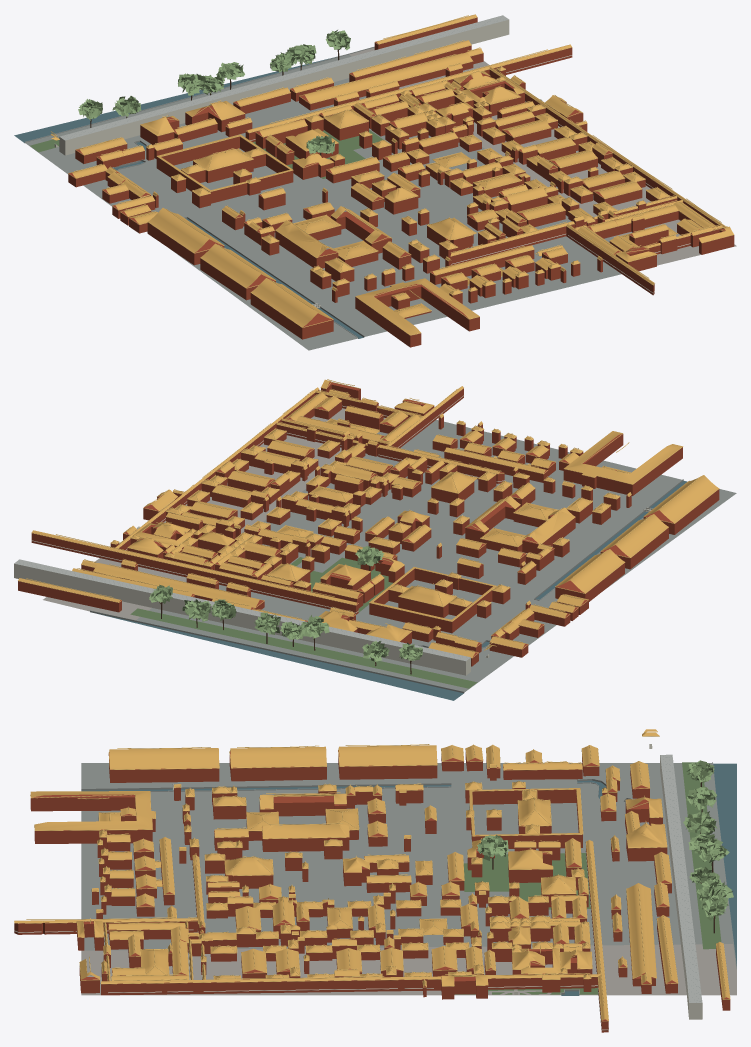
The model's file is north-west-medium.glb.
The picture shows the model from 3 angles, top to bottom: view 1: azimuth 30°, elevation 25°; view 2: azimuth 150°, elevation 25°; view 3: azimuth 270°, elevation 25°; orthographic projection. The views are drawn at different scales.
Visible parts, largest first — view 1: north-west_medium_Vermilion, north-west_medium_Roof_Glazed_Ochre, north-west_medium_Courtyard_Stone, north-west_medium_Roof_Ridge_Highlight, north-west_medium_Limestone, north-west_medium_Foliage_Leaves, north-west_medium_Terrace_Paving, north-west_medium_Courtyard_Warm, north-west_medium_Water_Jade, north-west_medium_Garden_Green; view 2: north-west_medium_Vermilion, north-west_medium_Roof_Glazed_Ochre, north-west_medium_Courtyard_Stone, north-west_medium_Roof_Ridge_Highlight, north-west_medium_Limestone, north-west_medium_Foliage_Leaves, north-west_medium_Garden_Green, north-west_medium_Water_Jade, north-west_medium_Courtyard_Warm, north-west_medium_Terrace_Paving; view 3: north-west_medium_Roof_Glazed_Ochre, north-west_medium_Vermilion, north-west_medium_Courtyard_Stone, north-west_medium_Roof_Ridge_Highlight, north-west_medium_Courtyard_Warm, north-west_medium_Foliage_Leaves, north-west_medium_Garden_Green, north-west_medium_Terrace_Paving, north-west_medium_Water_Jade, north-west_medium_Limestone.
Boxes of the visible parts, x1,y1,x2,y2 form: north-west_medium_Vermilion: (68, 17, 734, 347); north-west_medium_Roof_Glazed_Ochre: (51, 14, 733, 334); north-west_medium_Courtyard_Stone: (24, 18, 621, 350); north-west_medium_Roof_Ridge_Highlight: (50, 15, 734, 335); north-west_medium_Limestone: (54, 19, 690, 307); north-west_medium_Foliage_Leaves: (78, 30, 350, 154); north-west_medium_Terrace_Paving: (60, 15, 508, 140); north-west_medium_Courtyard_Warm: (349, 47, 736, 265); north-west_medium_Water_Jade: (14, 56, 363, 338); north-west_medium_Garden_Green: (30, 130, 383, 178); north-west_medium_Vermilion: (18, 381, 719, 666); north-west_medium_Roof_Glazed_Ochre: (18, 379, 718, 657); north-west_medium_Courtyard_Stone: (19, 419, 736, 693); north-west_medium_Roof_Ridge_Highlight: (18, 379, 719, 658); north-west_medium_Limestone: (14, 395, 652, 675); north-west_medium_Foliage_Leaves: (149, 545, 422, 661); north-west_medium_Garden_Green: (120, 541, 477, 688); north-west_medium_Water_Jade: (97, 481, 687, 700); north-west_medium_Courtyard_Warm: (43, 406, 385, 620); north-west_medium_Terrace_Paving: (14, 559, 470, 661); north-west_medium_Roof_Glazed_Ochre: (14, 729, 729, 1020); north-west_medium_Vermilion: (14, 750, 730, 1032); north-west_medium_Courtyard_Stone: (81, 755, 736, 1002); north-west_medium_Roof_Ridge_Highlight: (18, 730, 730, 1021); north-west_medium_Courtyard_Warm: (81, 944, 736, 995); north-west_medium_Foliage_Leaves: (477, 760, 733, 920); north-west_medium_Garden_Green: (455, 762, 721, 994); north-west_medium_Terrace_Paving: (660, 754, 702, 1002); north-west_medium_Water_Jade: (81, 763, 736, 995); north-west_medium_Limestone: (14, 744, 702, 1030).
Bounding box in the file's own units: 3.54 × 0.2266 × 3.93.
